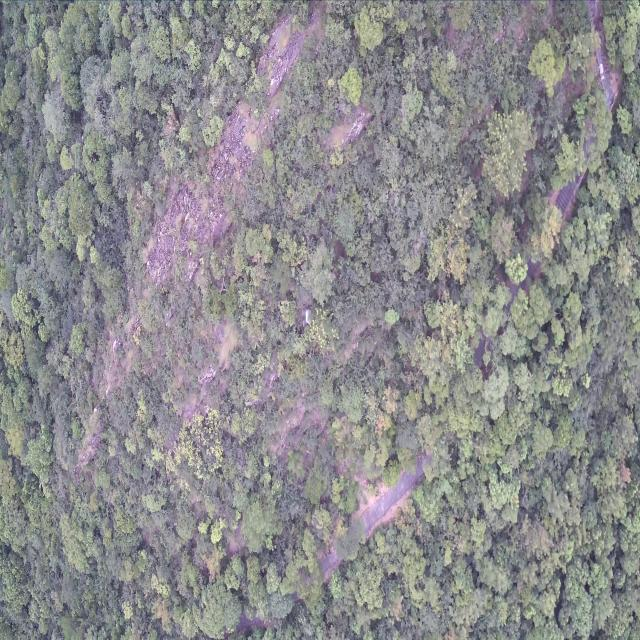drone: (302, 308, 311, 326)
